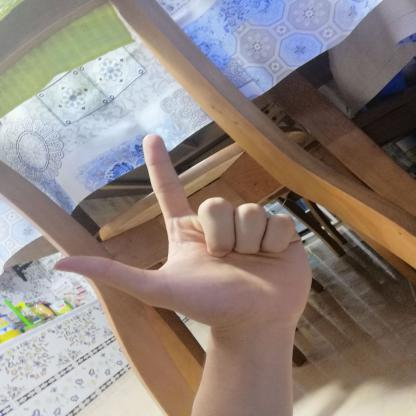LAAM: (36, 122, 334, 344)
